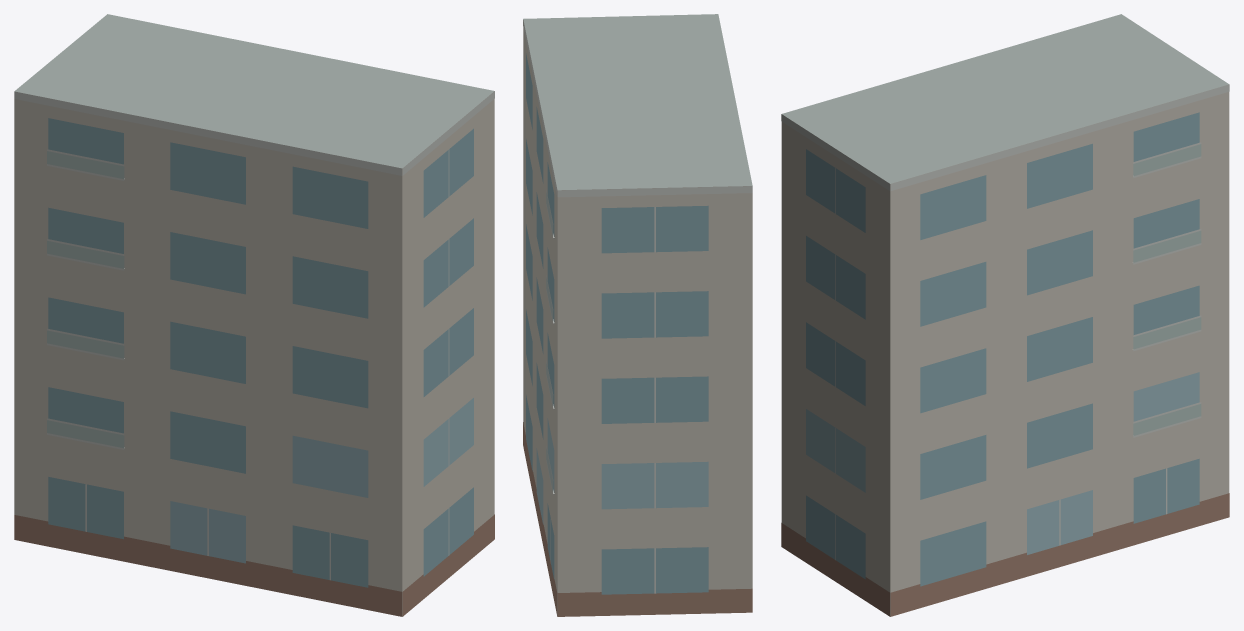
File: survey-upis-32902726.glb
3 views of the same model, side by side, from view 1: azimuth 30°, elevation 25°; view 2: azimuth 150°, elevation 25°; view 3: azimuth 270°, elevation 25° (orthographic). The views are drawn at different scales.
Visible parts, largest first — view 1: survey-upis-32902726.tmp; view 2: survey-upis-32902726.tmp; view 3: survey-upis-32902726.tmp.
Boxes of the visible parts, x1,y1,x2,y2 form: survey-upis-32902726.tmp: [14, 14, 494, 616]; survey-upis-32902726.tmp: [523, 14, 752, 616]; survey-upis-32902726.tmp: [781, 14, 1229, 616].
Bounding box in the file's own units: 12.14 × 14.4 × 13.51.
